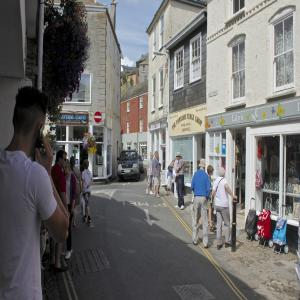Vehicle-registration-plate: (125, 170, 132, 173)
